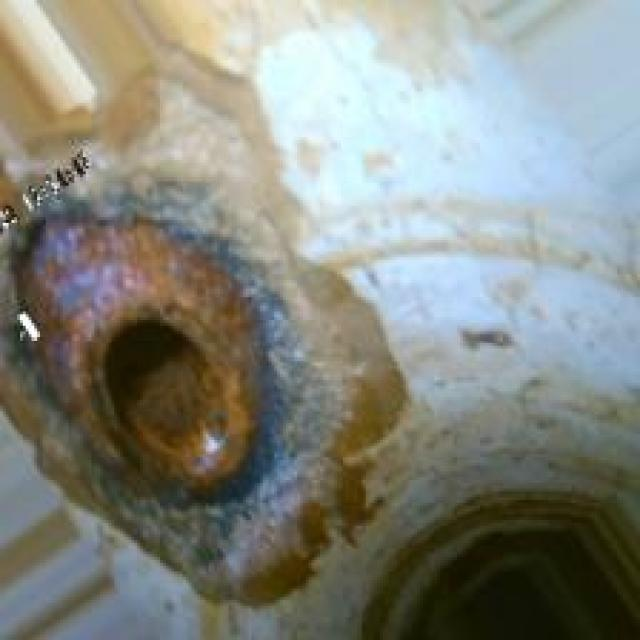ferrule: (37, 226, 289, 494)
